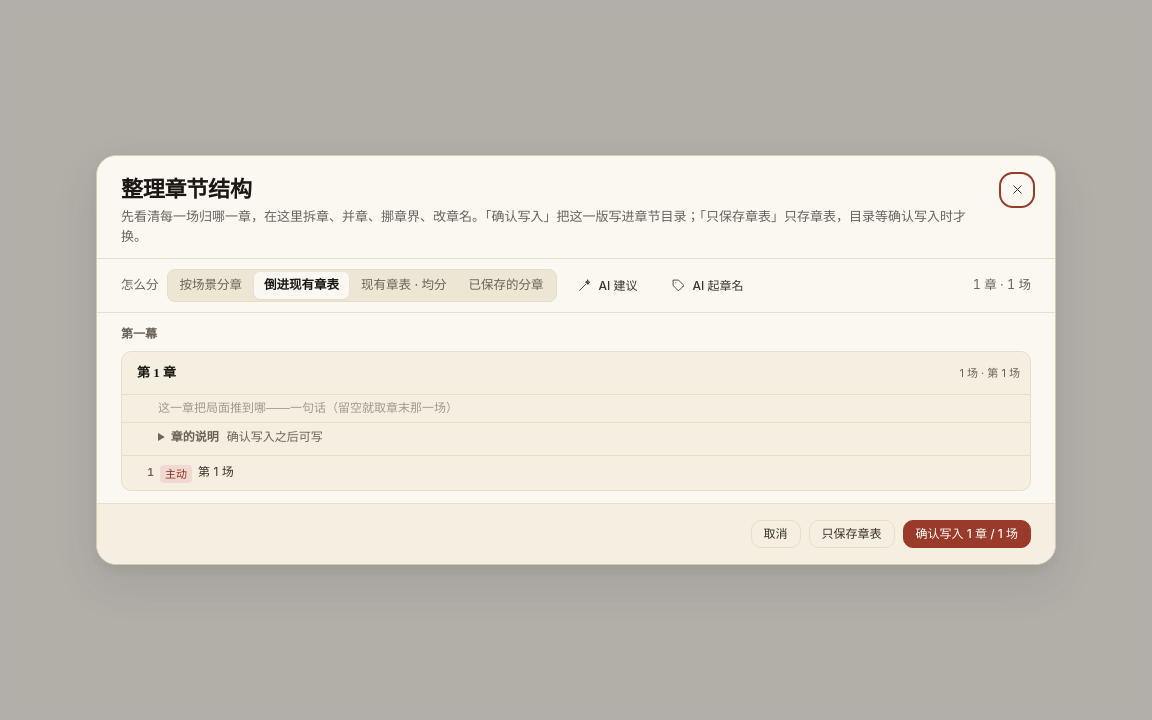
分章面板 · AI 起章名（阶段 W） › 面板：LLM 没配好时如实报错，章名原样不动
What coordinates should you click on to do the following:
click the button with test id "chapter-plan-name"
I would click on:
 (708, 286)
Its box is [658, 272, 756, 300].
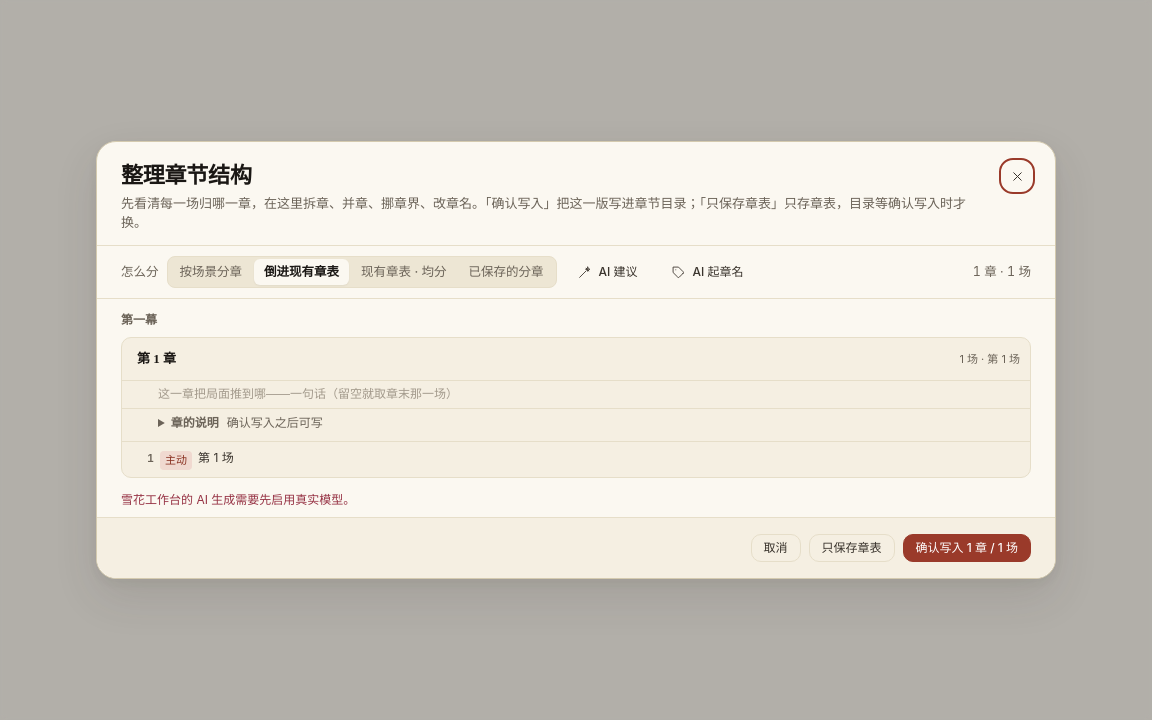
Expected: the field with class "sf-chapterplan-title" holds "第 1 章", [132, 346, 951, 372]
Now the text "需要先启用真实模型" is shown, box [121, 492, 355, 507]
